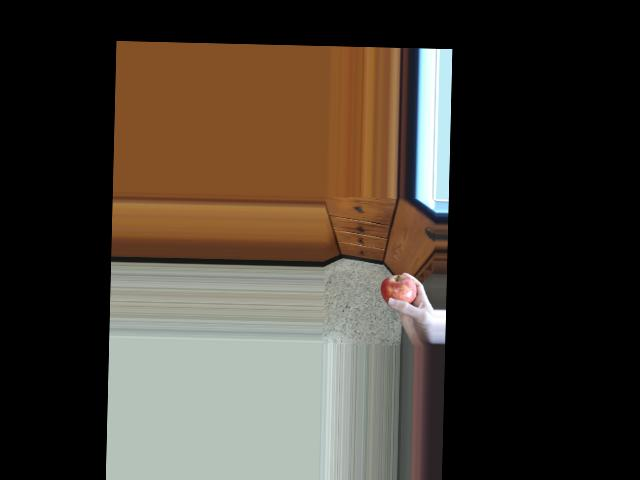apple: (380, 272, 422, 313)
